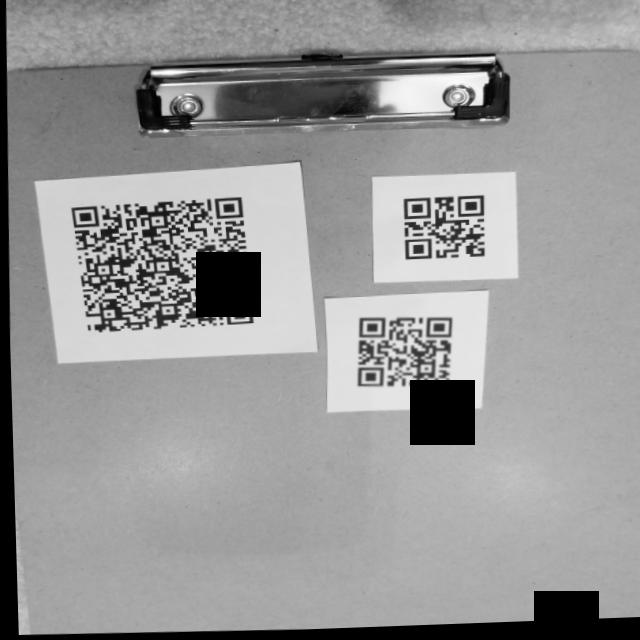QR_CODE: (54, 184, 269, 353), (337, 304, 472, 410), (383, 186, 502, 283)
